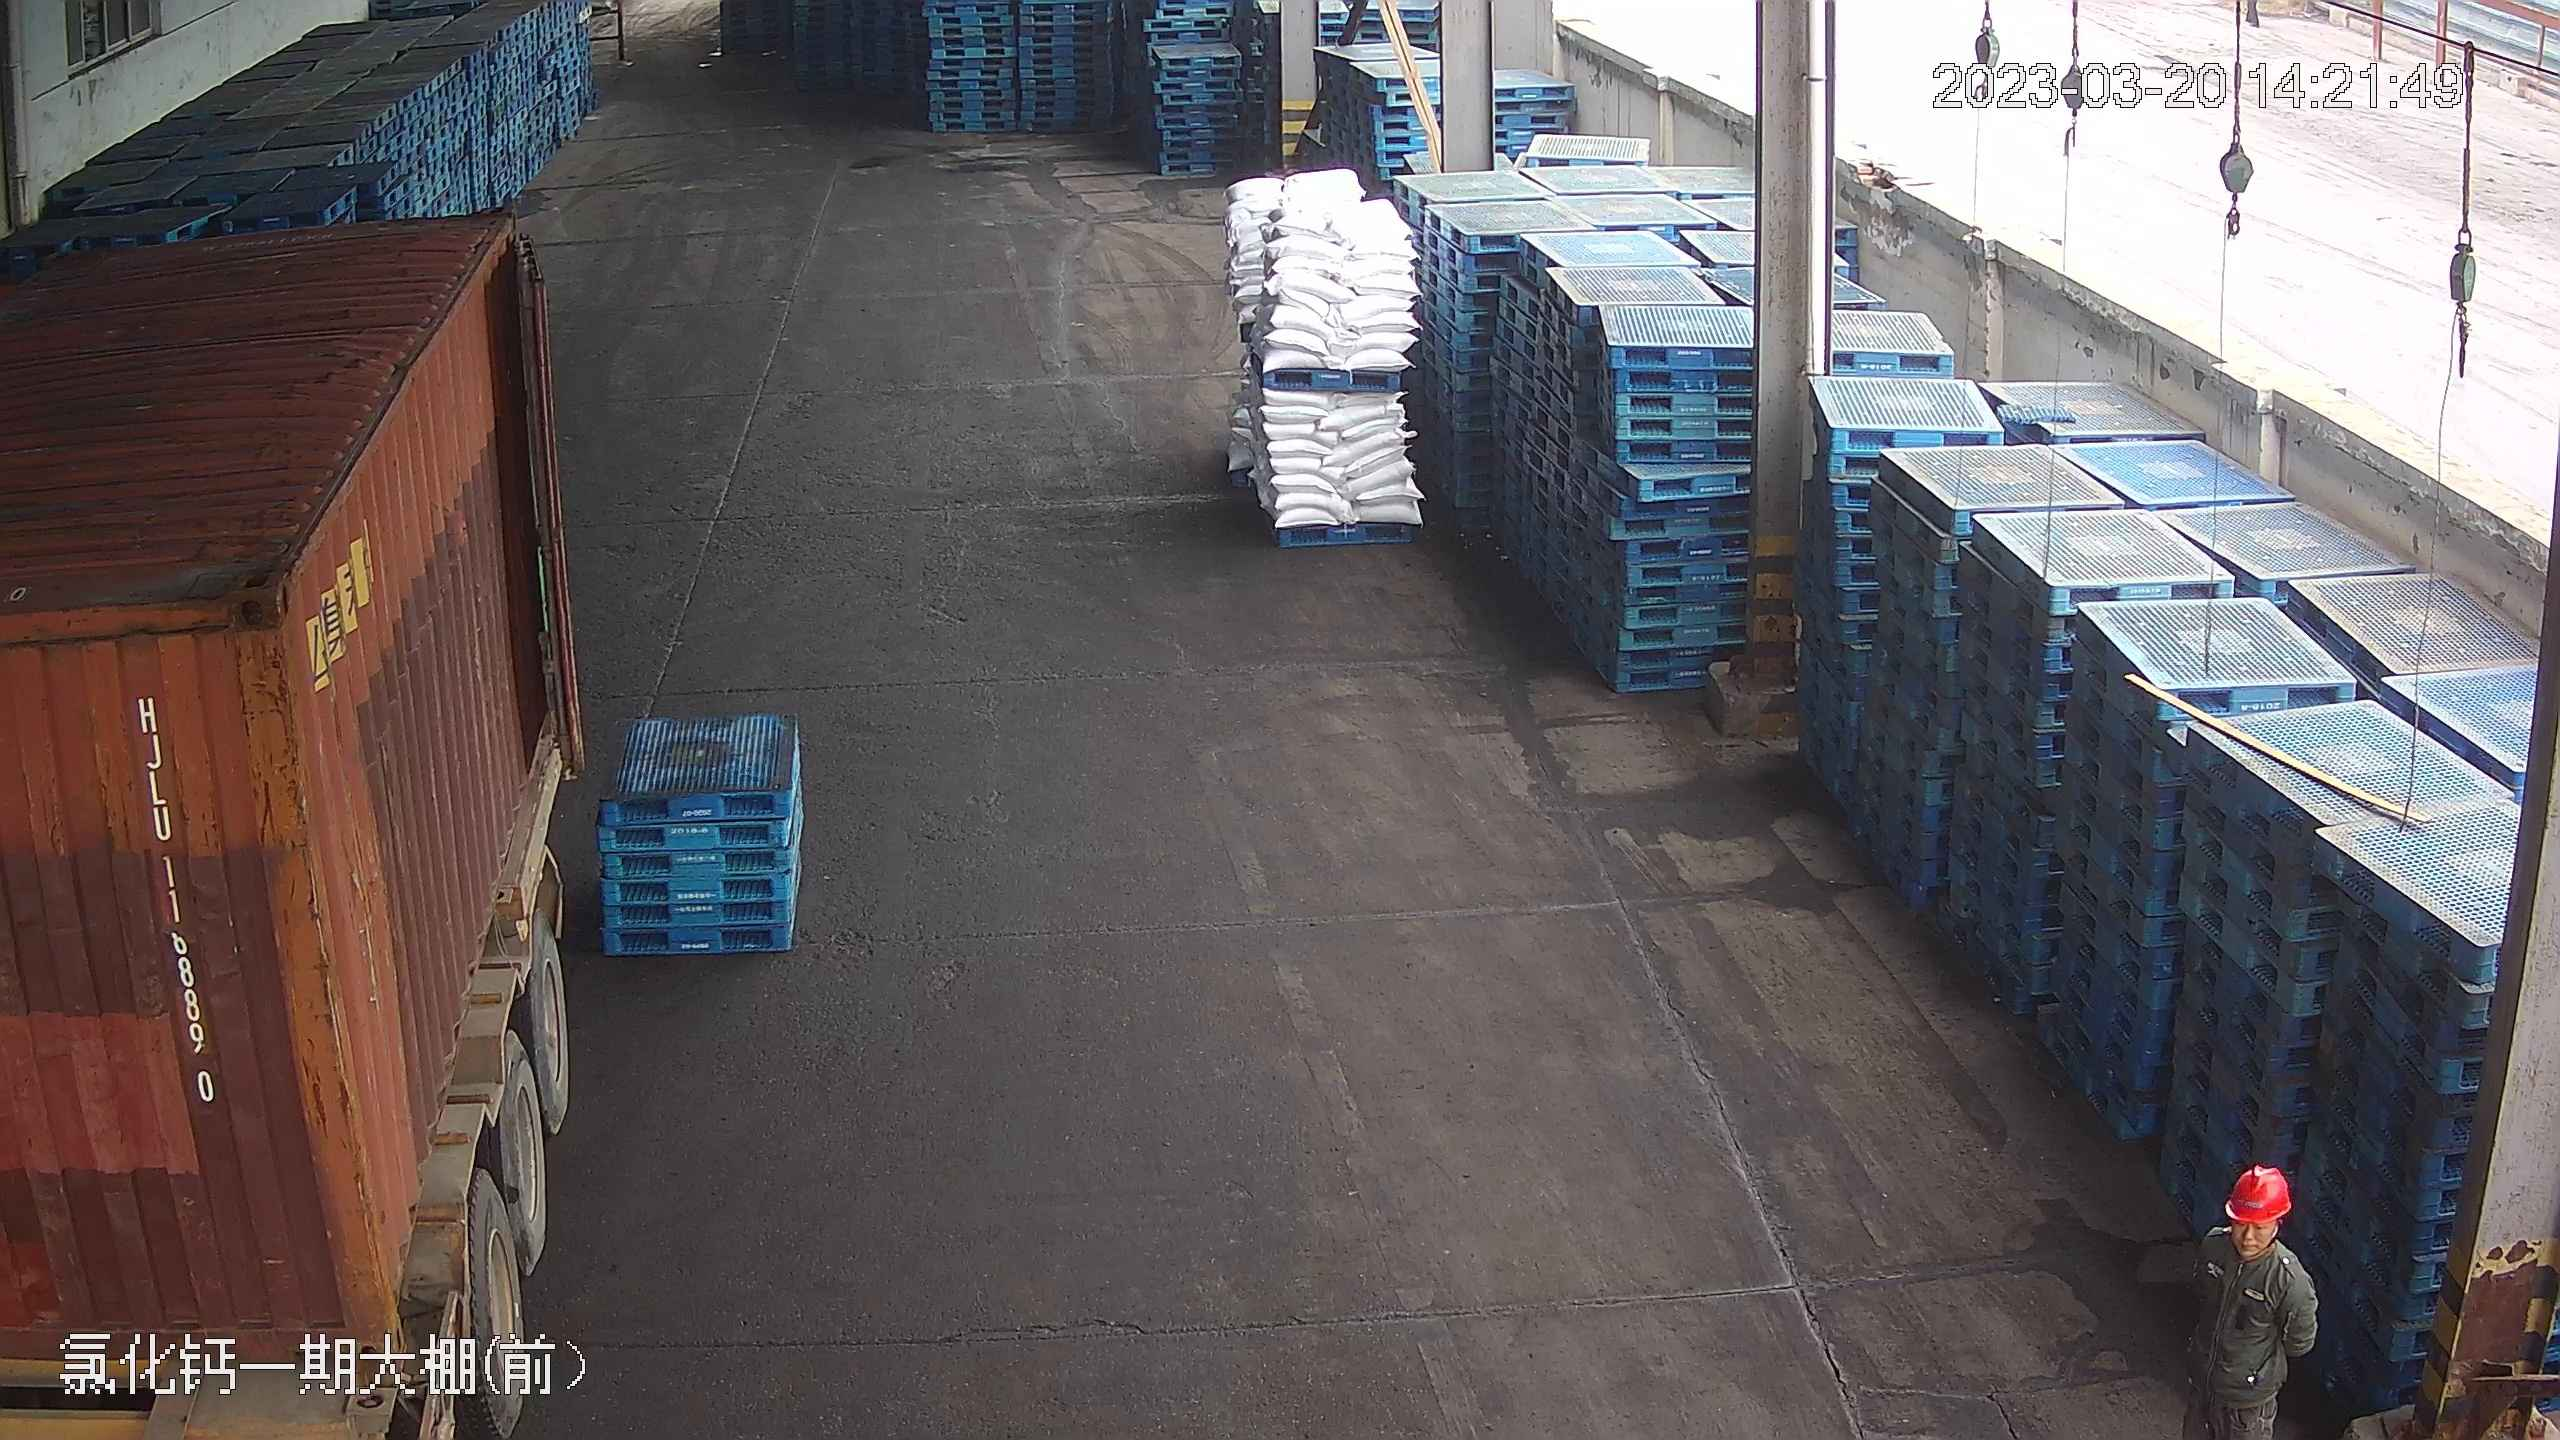head: (2197, 1162, 2318, 1305)
helmet: (2222, 1160, 2297, 1220)
people: (2176, 1158, 2324, 1440)
truck: (0, 182, 634, 1436)
